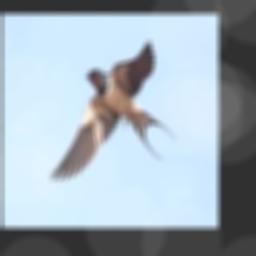Swallow: (47, 39, 176, 180)
